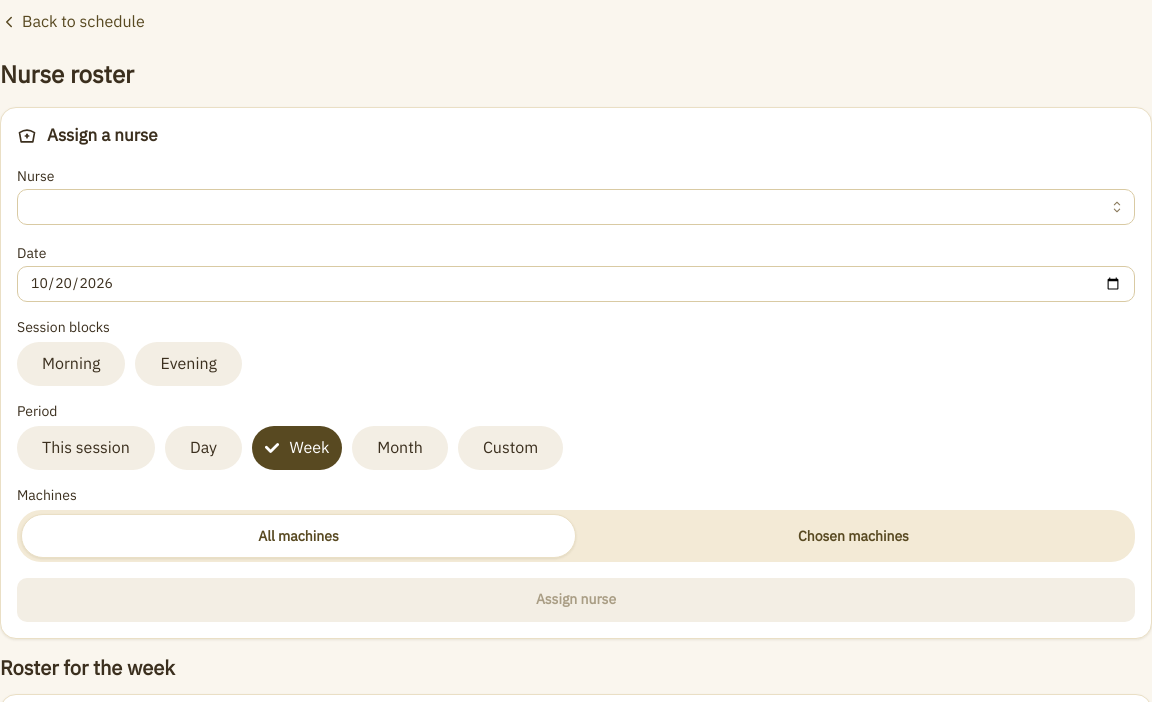
Test: RosterPage › translates a not_a_nurse error
Click the field labelled "Nurse" at (576, 207), box [17,189,1135,225]
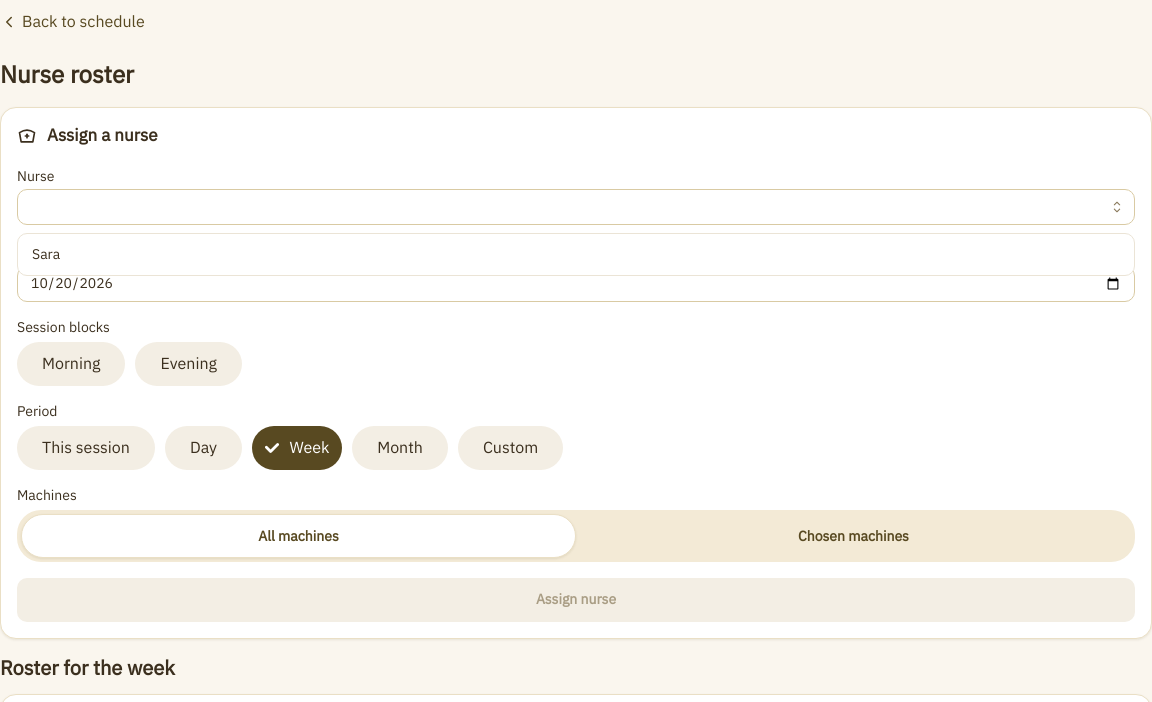
Click the option "Sara" at (46, 254), box [32,244,60,265]
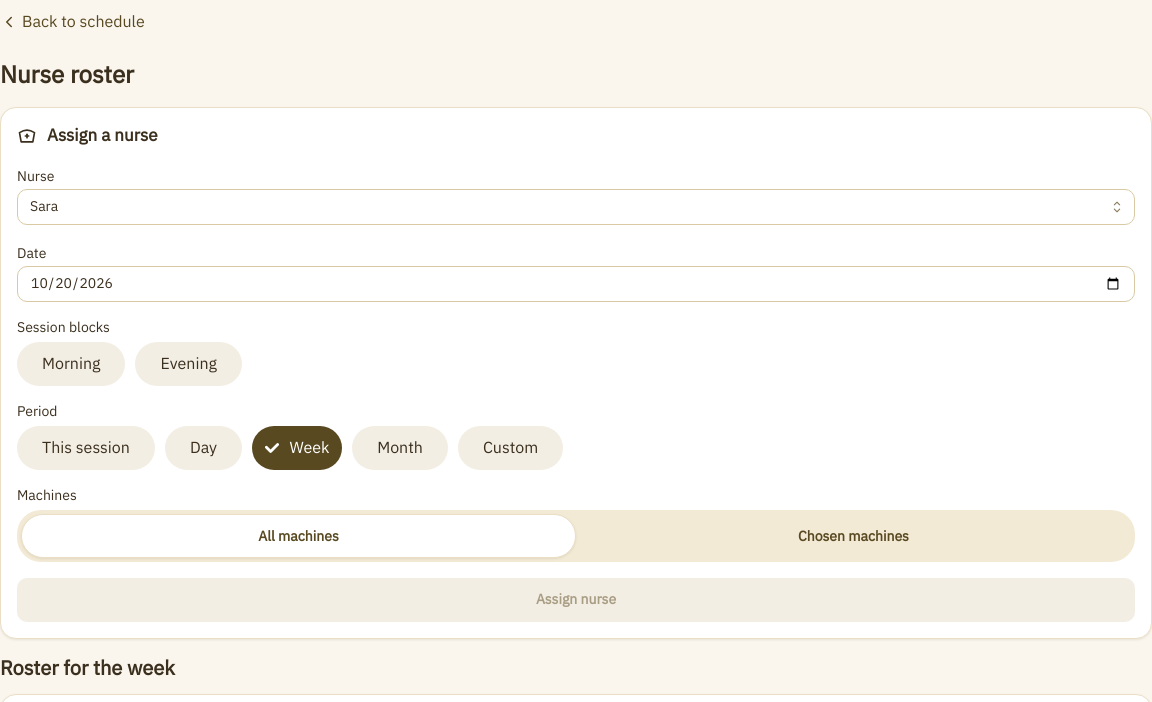
Type "2026-11-02" into the date field labelled "Date" at (576, 284), box [17,266,1135,302]
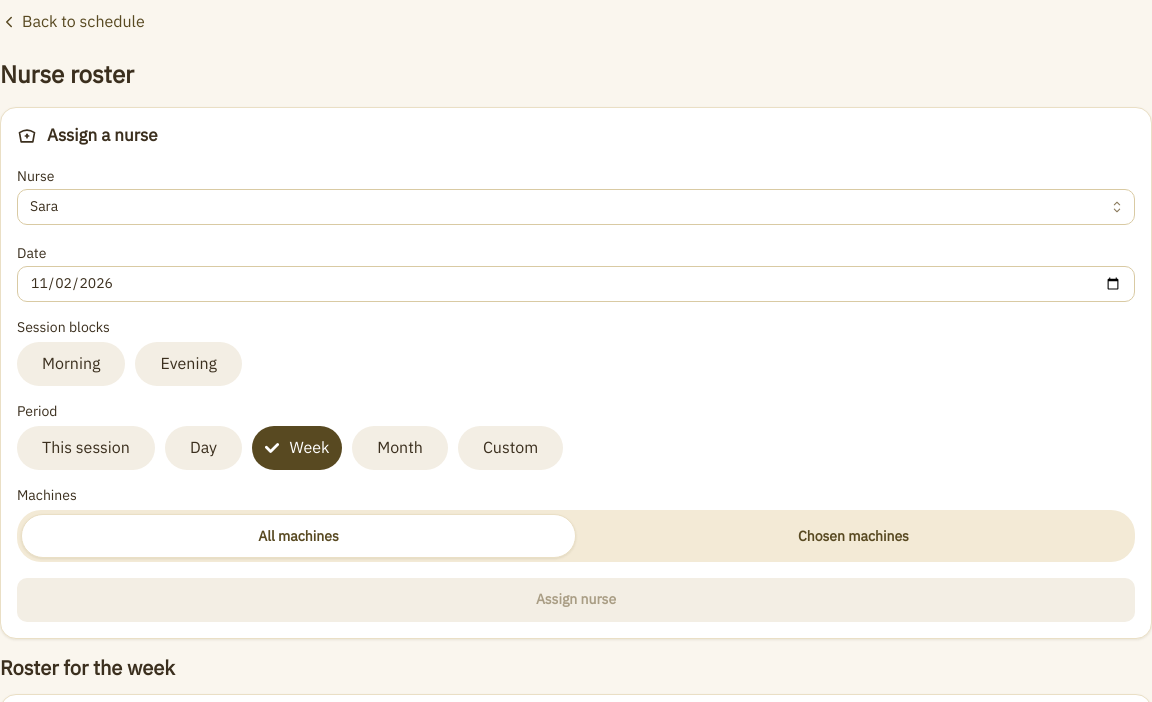
Click the checkbox labelled "Morning" at (71, 364), box [17,342,126,386]
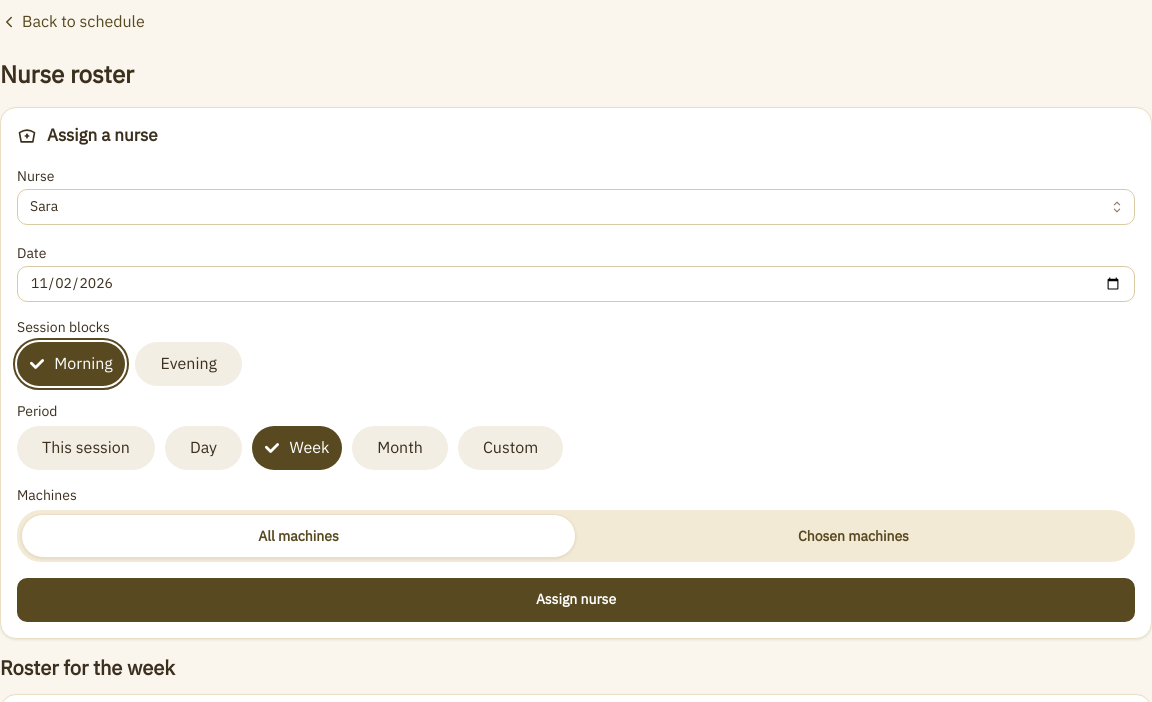
Click the radio button labelled "Day" at (204, 448), box [165,426,242,470]
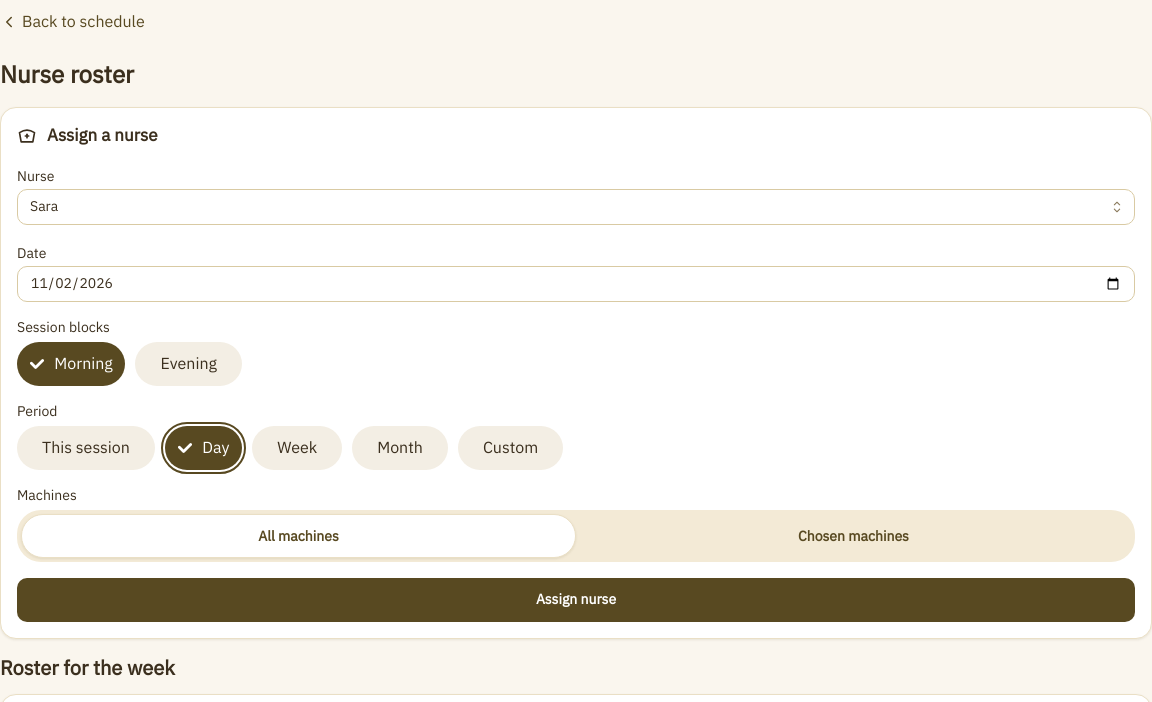
Click the button "Assign nurse" at (576, 600), box [17,578,1135,622]
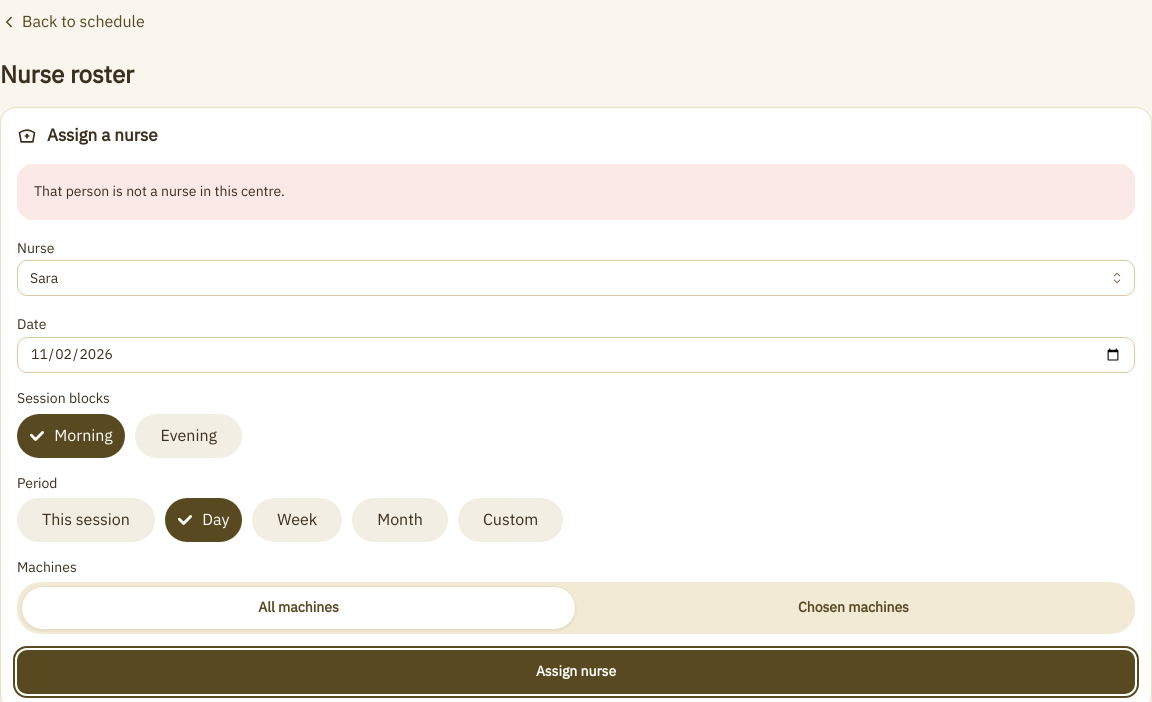
expect the text "That person is not a nurse in this centre." is shown: met, box [34,181,285,202]
